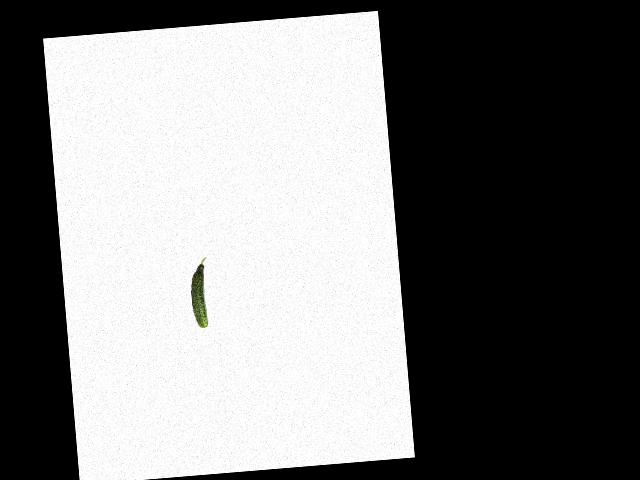cucumber: (188, 256, 211, 328)
